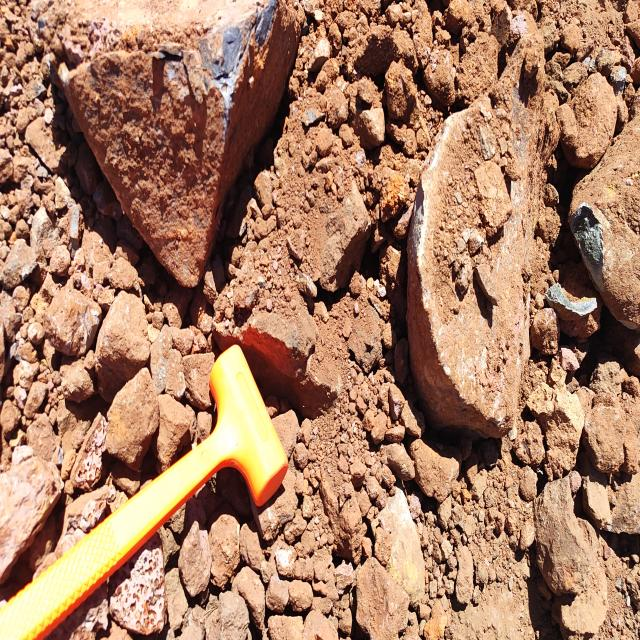Orange_hammer: (0, 342, 289, 638)
